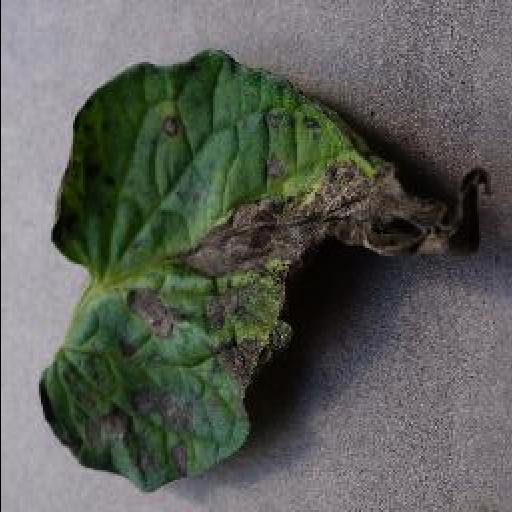disease_tomato: (35, 44, 497, 490)
